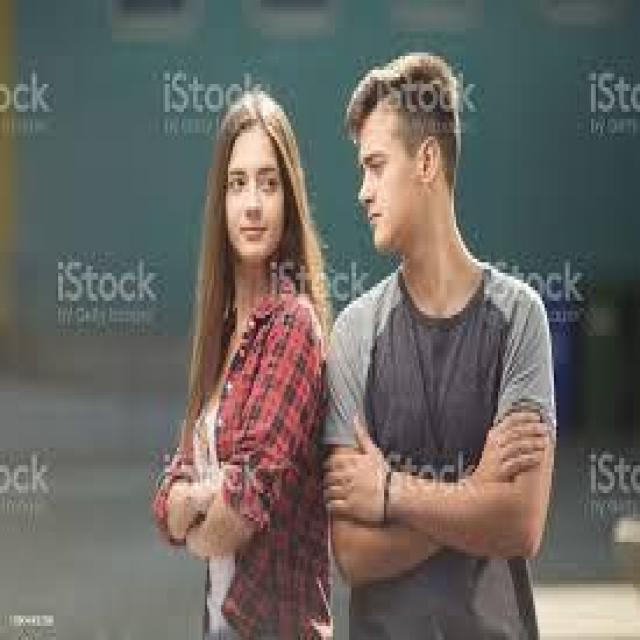person: (314, 7, 577, 636), (156, 53, 330, 636)
